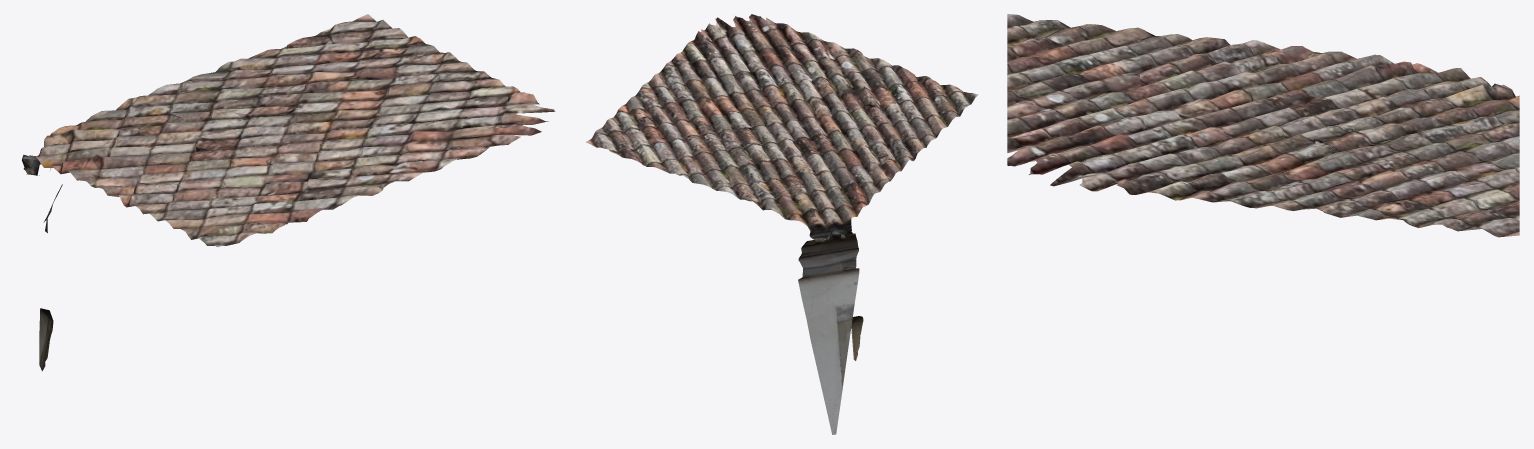
3 renders of one model, left to right at view 1: azimuth 30°, elevation 25°; view 2: azimuth 150°, elevation 25°; view 3: azimuth 270°, elevation 25°, orthographic. The views are drawn at different scales.
Size of the model in its own units: 3.35 by 3.35 by 3.35.
3 materials, 3 textured.
